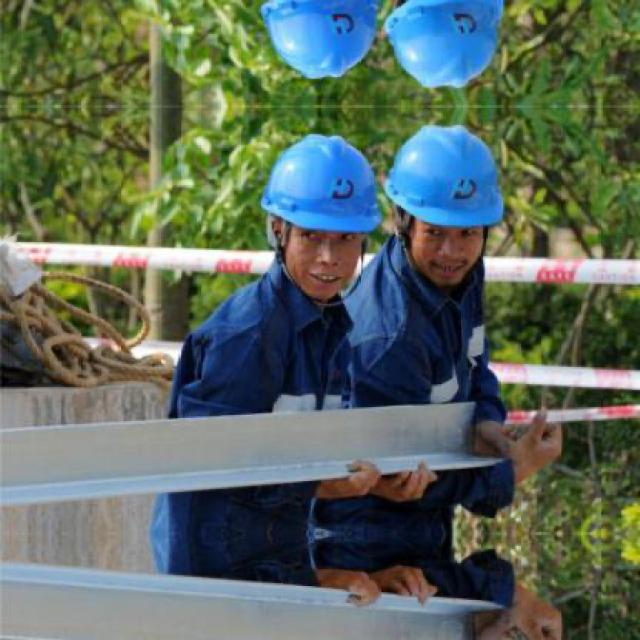helmet: (372, 114, 517, 287), (247, 123, 376, 296), (372, 0, 518, 100), (246, 0, 377, 91)
